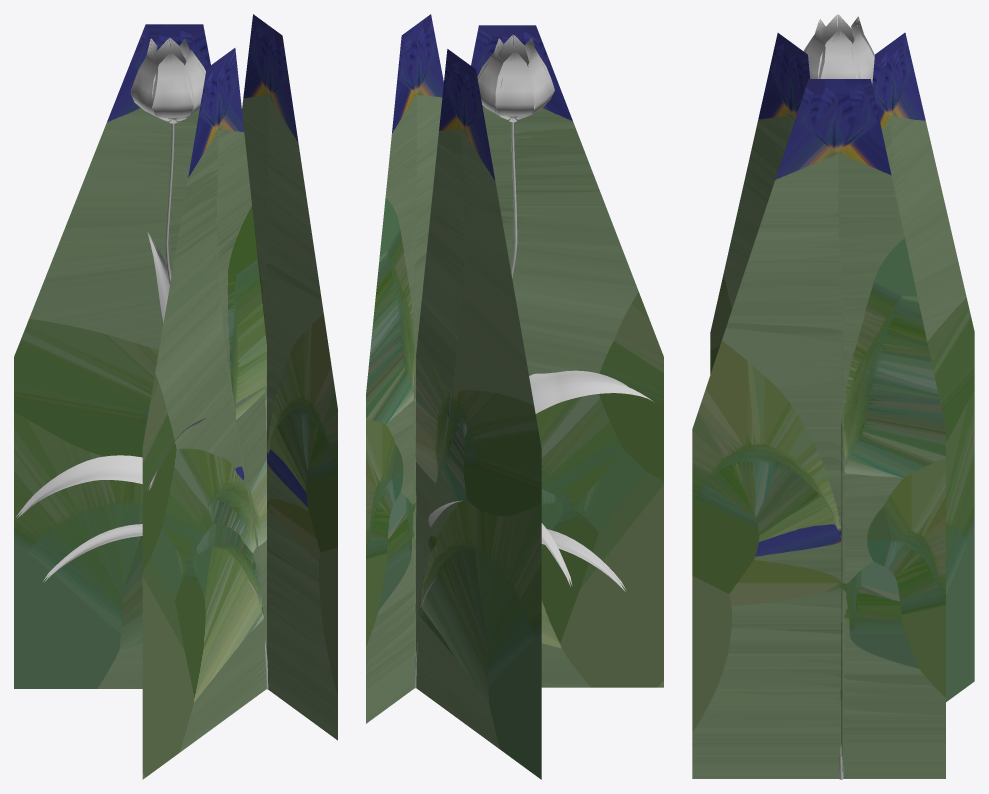
The model's file is PW_Tulip_Purple_v1.fbx.
3 renders of one model, left to right at view 1: azimuth 30°, elevation 25°; view 2: azimuth 150°, elevation 25°; view 3: azimuth 270°, elevation 25°, orthographic. The views are drawn at different scales.
Visible parts, largest first — view 1: Billboard, LOD0; view 2: Billboard, LOD0; view 3: Billboard, LOD0.
Part boxes in pixels (<box>): Billboard: <box>14,14,337,779</box>; LOD0: <box>16,37,268,689</box>; Billboard: <box>366,14,663,779</box>; LOD0: <box>414,35,653,688</box>; Billboard: <box>692,32,974,778</box>; LOD0: <box>803,14,874,779</box>.
Size of what is drawn, in the model's own units: 5.67 by 16.53 by 5.98.
